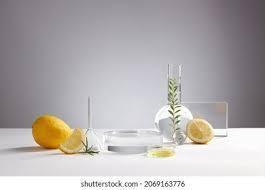lemon: (32, 115, 70, 148), (58, 128, 84, 154), (187, 118, 212, 143)
